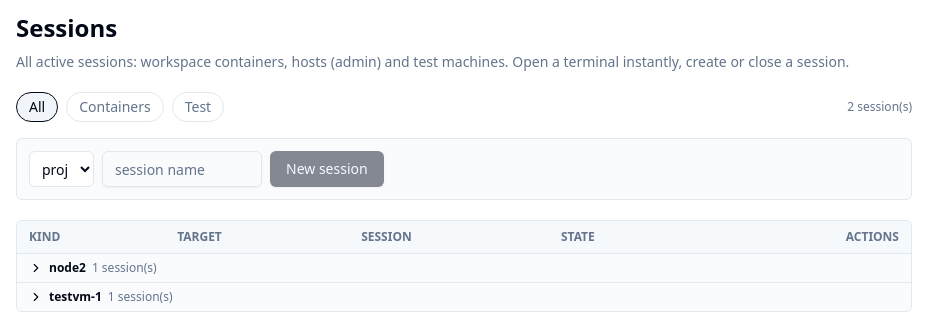
Test case: SessionsView › filtre par famille
This screenshot has width=929, height=329.
Check: the column heading "node2 1 session(s)" is shown, box left=17, top=254, right=911, bottom=282
Click the button "Test": {"x": 198, "y": 107} left=172, top=92, right=224, bottom=122
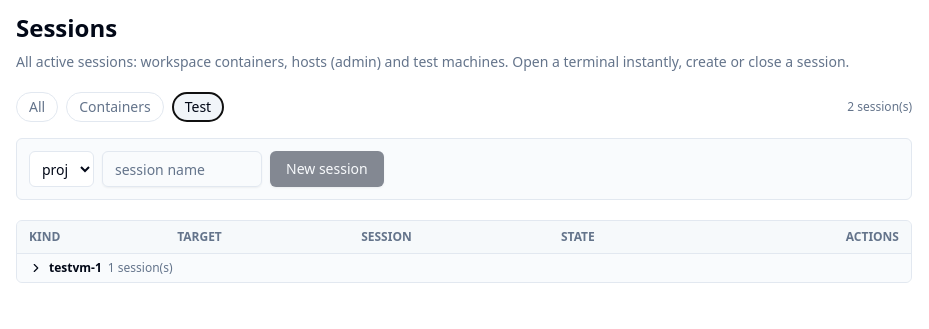
Check: the column heading "testvm-1 1 session(s)" is shown, box left=17, top=254, right=911, bottom=282
Check: the button "node2" is gone
